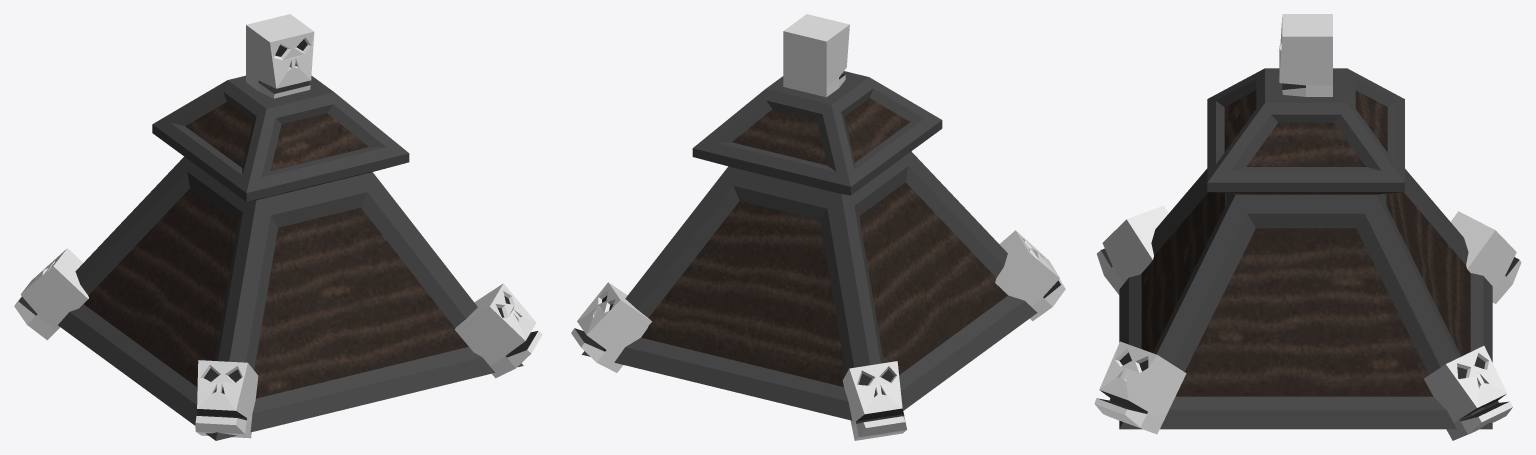
Rendered from hell_container_1.fbx.
The picture shows the model from 3 angles, left to right: view 1: azimuth 30°, elevation 25°; view 2: azimuth 150°, elevation 25°; view 3: azimuth 270°, elevation 25°; orthographic projection. The views are drawn at different scales.
Parts seen in each view (by area): view 1: hell_container_1_LOD0; view 2: hell_container_1_LOD0; view 3: hell_container_1_LOD0.
Part boxes in pixels (bbox=[...]): hell_container_1_LOD0: bbox=[14, 14, 542, 440]; hell_container_1_LOD0: bbox=[571, 14, 1065, 440]; hell_container_1_LOD0: bbox=[1094, 14, 1521, 440].
Size of what is drawn, in the model's own units: 3.28 by 3.26 by 2.91.
